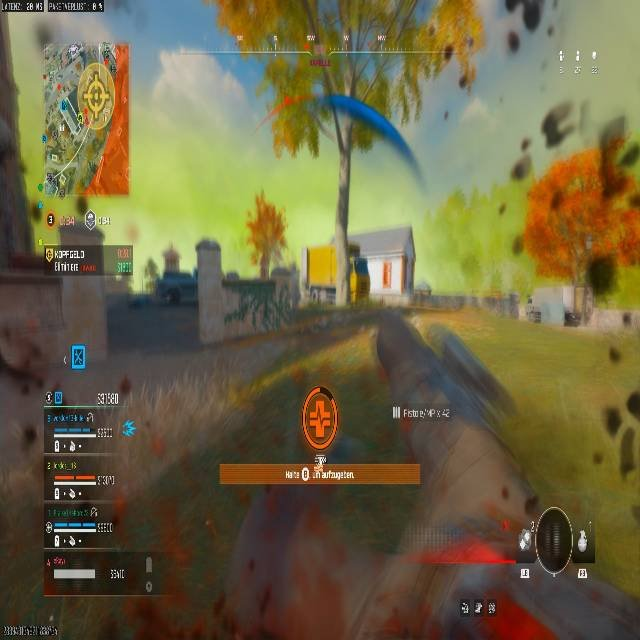player: (143, 257, 159, 291)
